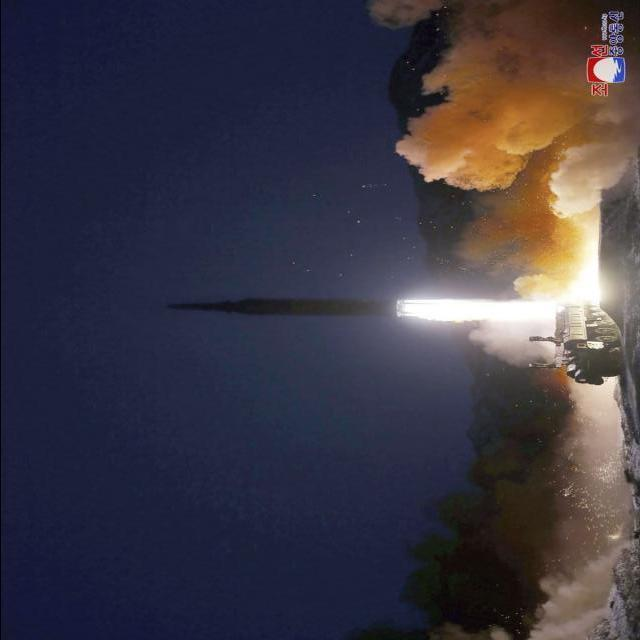missile: (159, 288, 401, 327)
